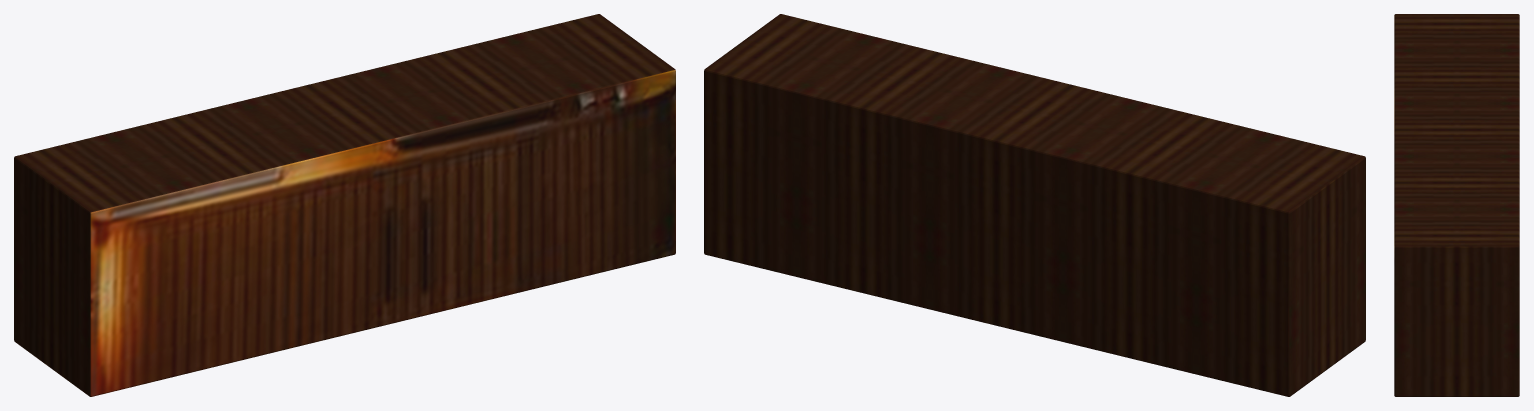
The model's file is mood-2.glb.
3 renders of one model, left to right at view 1: azimuth 30°, elevation 25°; view 2: azimuth 150°, elevation 25°; view 3: azimuth 270°, elevation 25°, orthographic. The views are drawn at different scales.
Parts seen in each view (by area): view 1: object; view 2: object; view 3: object.
Part boxes in pixels (bbox=[...]): object: bbox=[14, 14, 675, 396]; object: bbox=[704, 14, 1365, 396]; object: bbox=[1394, 14, 1519, 396].
Size of the model in its own units: 2.2 by 0.666 by 0.5.
Materials: 2 (2 with a texture image).
